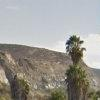Palm tree: (60, 30, 100, 99)
